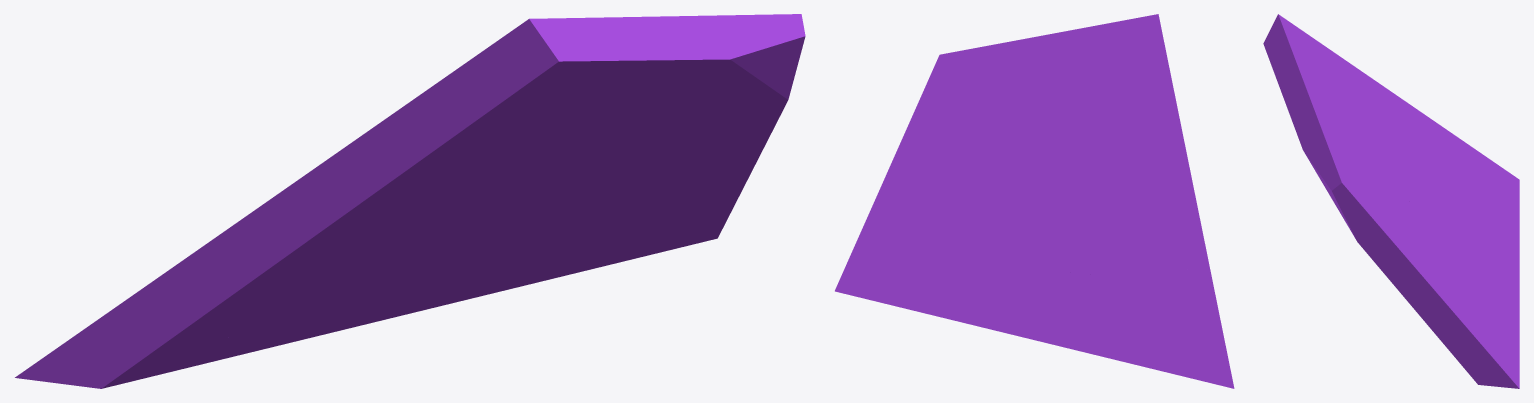
The model's file is Window_100_3_chunks.fbx.
3 views of the same model, side by side, from view 1: azimuth 30°, elevation 25°; view 2: azimuth 150°, elevation 25°; view 3: azimuth 270°, elevation 25° (orthographic). The views are drawn at different scales.
Parts seen in each view (by area): view 1: Window_100_3_0, Window_100_3_1, Window_100_3_9, Window_100_3_3, Window_100_3_2, Window_100_3_4, Window_100_3_6, Window_100_3_7, Window_100_3_5, Window_100_3_8; view 2: Window_100_3_1, Window_100_3_2, Window_100_3_4, Window_100_3_0, Window_100_3_9, Window_100_3_3, Window_100_3_5, Window_100_3_8, Window_100_3_7, Window_100_3_6; view 3: Window_100_3_1, Window_100_3_2, Window_100_3_0, Window_100_3_4, Window_100_3_9, Window_100_3_3, Window_100_3_5, Window_100_3_8, Window_100_3_7, Window_100_3_6.
Part boxes in pixels (x1,y1,x2,y2): Window_100_3_0: [381, 17, 673, 188]; Window_100_3_1: [423, 118, 778, 310]; Window_100_3_9: [15, 263, 334, 388]; Window_100_3_3: [242, 118, 506, 278]; Window_100_3_2: [613, 14, 805, 155]; Window_100_3_4: [415, 184, 556, 297]; Window_100_3_6: [315, 247, 434, 311]; Window_100_3_7: [101, 303, 354, 388]; Window_100_3_5: [171, 201, 268, 268]; Window_100_3_8: [349, 296, 435, 328]; Window_100_3_1: [835, 147, 1013, 332]; Window_100_3_2: [899, 26, 1090, 169]; Window_100_3_4: [1002, 134, 1091, 331]; Window_100_3_0: [1052, 14, 1179, 137]; Window_100_3_9: [1104, 253, 1234, 388]; Window_100_3_3: [1072, 117, 1196, 203]; Window_100_3_5: [1084, 203, 1211, 274]; Window_100_3_8: [1003, 271, 1117, 355]; Window_100_3_7: [1098, 319, 1194, 379]; Window_100_3_6: [1061, 246, 1114, 276]; Window_100_3_1: [1373, 200, 1519, 388]; Window_100_3_2: [1290, 66, 1410, 262]; Window_100_3_0: [1263, 14, 1378, 154]; Window_100_3_4: [1374, 141, 1519, 300]; Window_100_3_9: [1446, 129, 1519, 216]; Window_100_3_3: [1345, 60, 1416, 166]; Window_100_3_5: [1400, 98, 1447, 196]; Window_100_3_8: [1465, 201, 1519, 300]; Window_100_3_7: [1492, 200, 1519, 250]; Window_100_3_6: [1447, 181, 1468, 226].
Bounding box in the file's own units: 1006 × 592 × 521.
